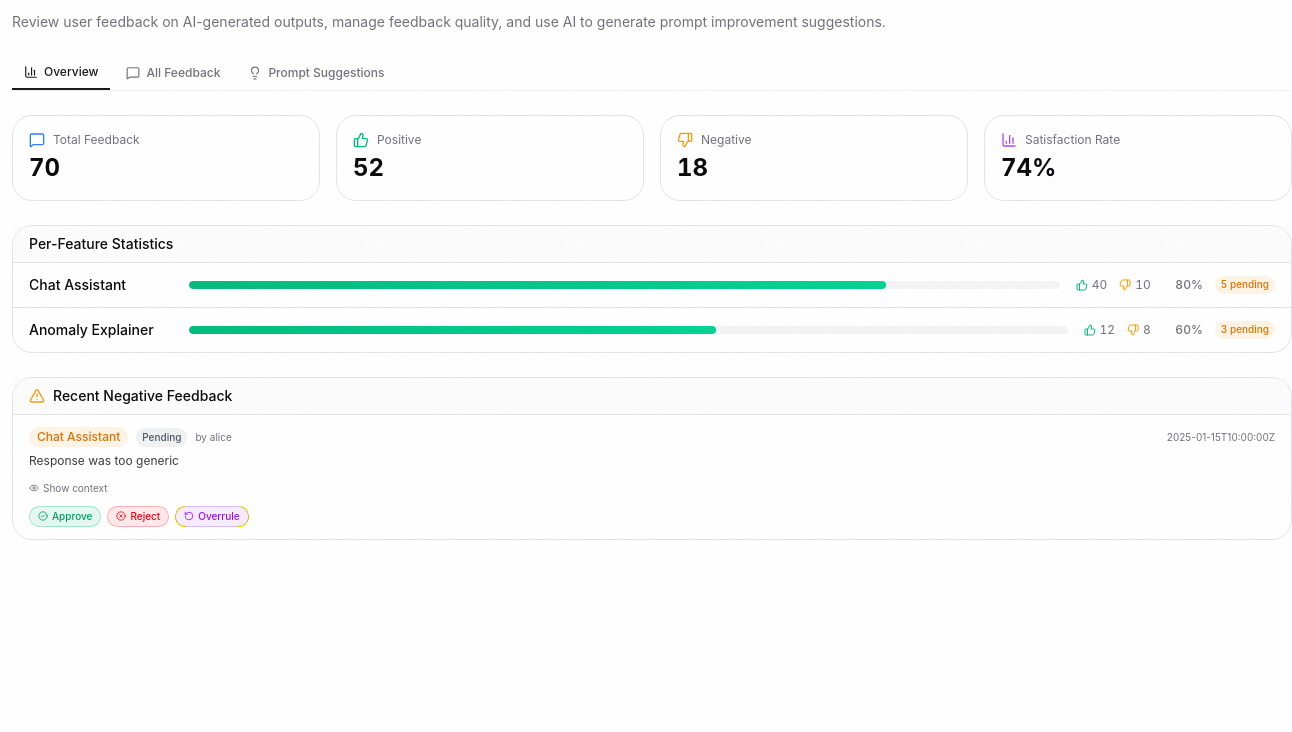
Test case: AiFeedbackPanel › switches to All Feedback tab
Step 1. Click the button "All Feedback" → (173, 73), box x1=114 y1=56 x2=232 y2=90
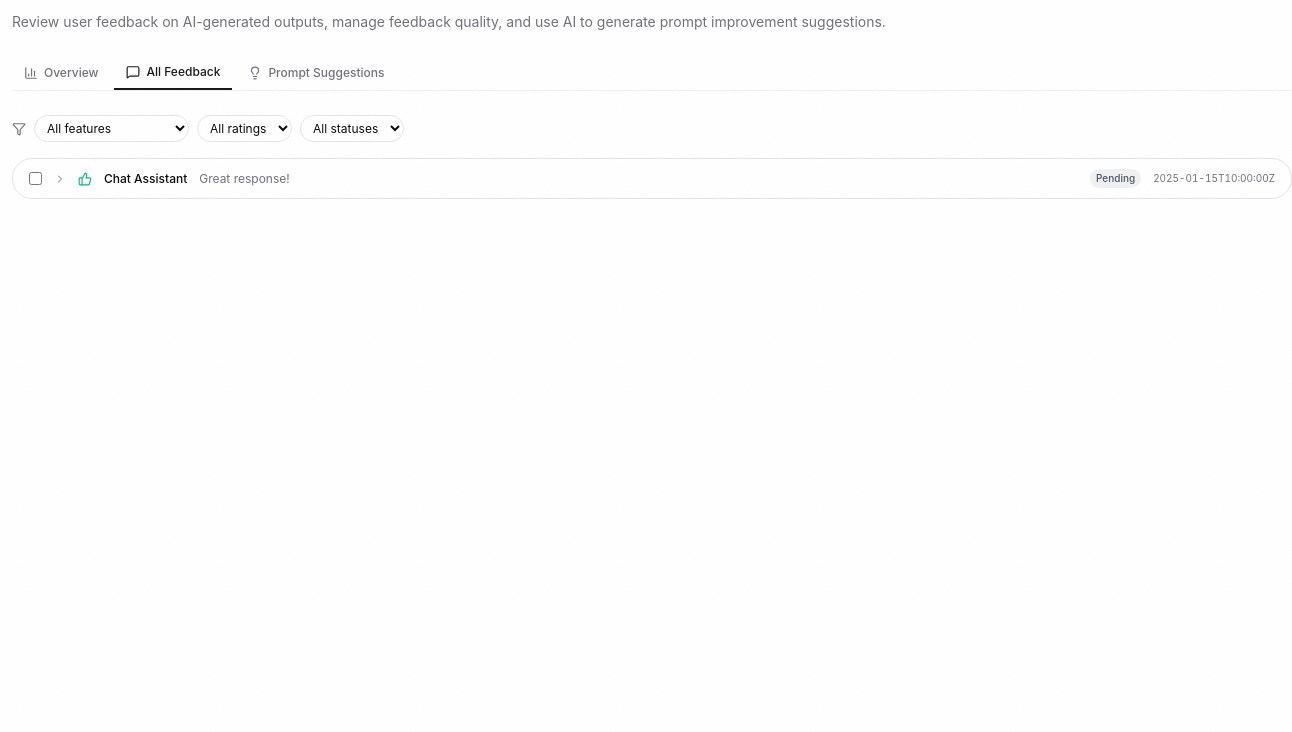
expect the element with test id "feedback-filters" is shown: met, box x1=12 y1=115 x2=404 y2=142
